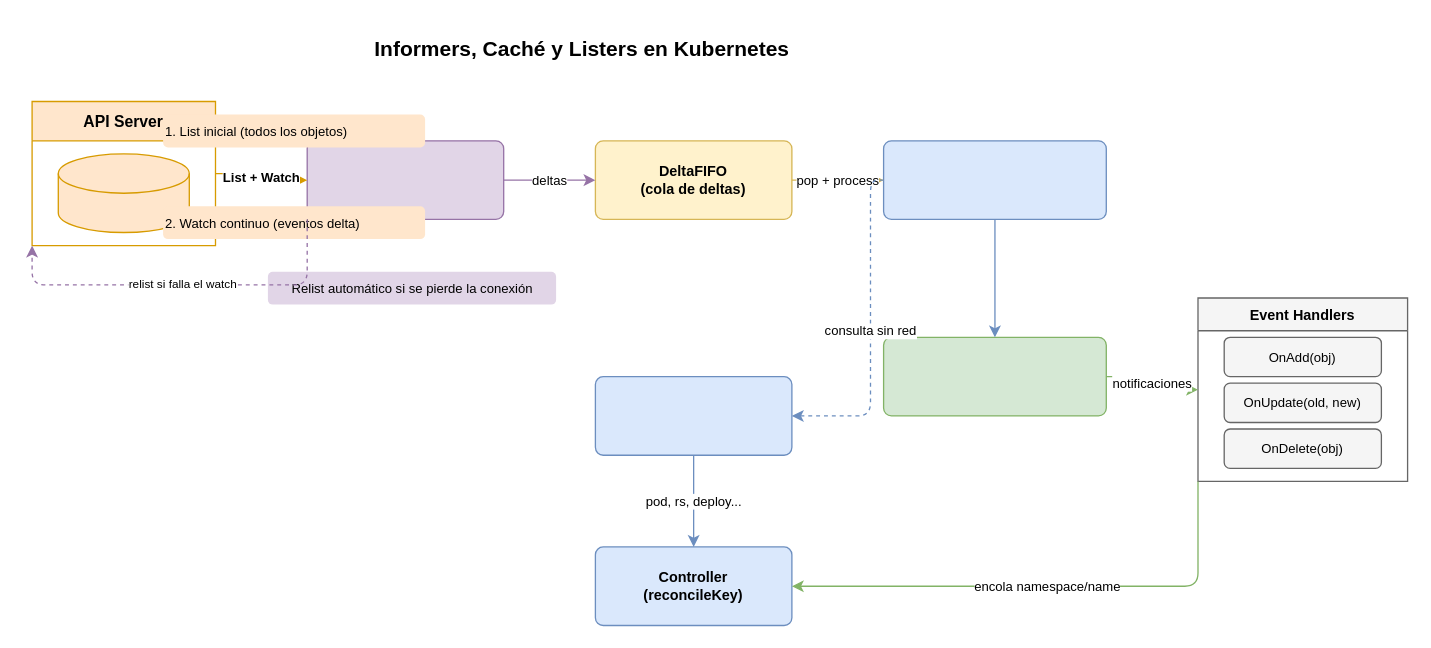
The diagram is 1431 pixels wide and 648 high, and some of its shapes have lost their labels. Here are the shapes that lost their labels. From the top down, the centre of each, then its label:
(123,193): etcd (almacén de estado)
(405,179): Reflector ListAndWatch()
(994,179): Indexer / Store (caché local thread-safe)
(994,376): SharedIndexInformer (despacha eventos)
(693,415): Lister (lee desde caché)
